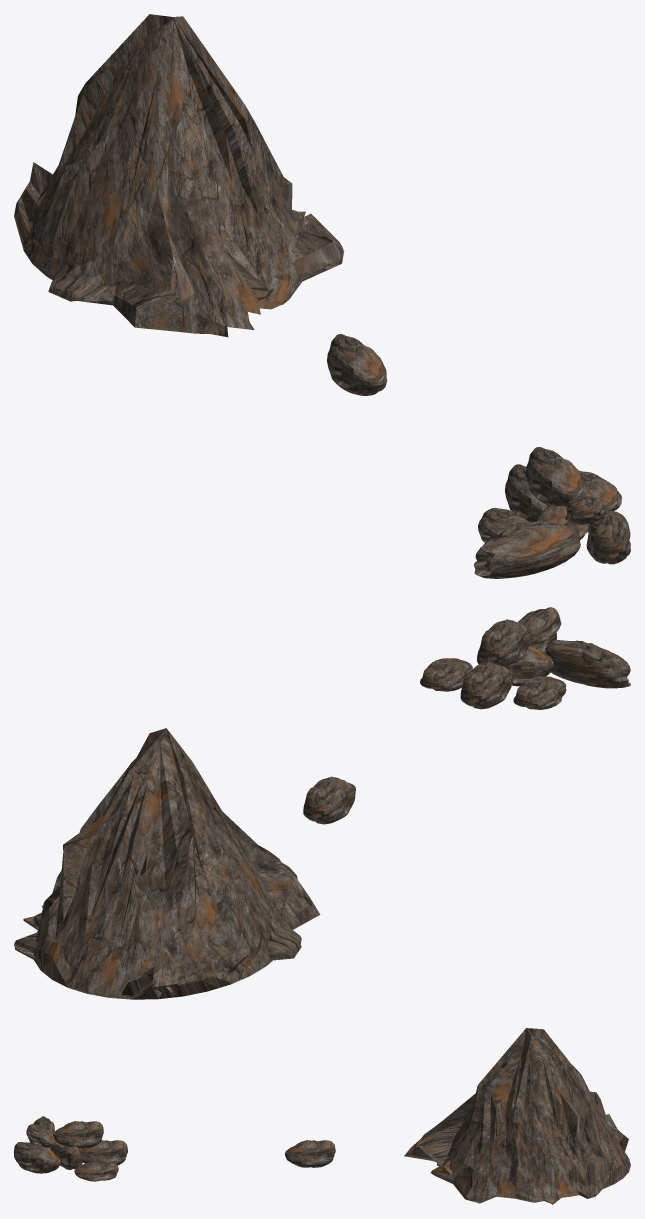
File: гематит(железо).fbx
The picture shows the model from 3 angles, top to bottom: view 1: azimuth 30°, elevation 25°; view 2: azimuth 150°, elevation 25°; view 3: azimuth 270°, elevation 25°; orthographic projection. The views are drawn at different scales.
Parts seen in each view (by area): view 1: Cone, Sphere.008, Sphere.005, Sphere.004, Sphere.003, Sphere, Sphere.007, Sphere.006, Sphere.001; view 2: Cone, Sphere.008, Sphere.005, Sphere, Sphere.004, Sphere.007, Sphere.001, Sphere.002, Sphere.006; view 3: Cone, Sphere.005, Sphere.004, Sphere.003, Sphere, Sphere.001, Sphere.002, Sphere.006.
Boxes of the visible parts, <box> form: Cone: <box>14,14,344,337</box>; Sphere.008: <box>474,521,580,578</box>; Sphere.005: <box>327,334,387,395</box>; Sphere.004: <box>525,447,585,506</box>; Sphere.003: <box>586,510,630,564</box>; Sphere: <box>505,464,547,522</box>; Sphere.007: <box>478,507,529,542</box>; Sphere.006: <box>565,495,605,524</box>; Sphere.001: <box>579,470,621,510</box>; Cone: <box>14,728,320,999</box>; Sphere.008: <box>545,640,630,688</box>; Sphere.005: <box>303,776,355,824</box>; Sphere: <box>460,661,513,709</box>; Sphere.004: <box>479,619,531,666</box>; Sphere.007: <box>513,676,566,709</box>; Sphere.001: <box>420,658,472,691</box>; Sphere.002: <box>477,646,553,686</box>; Sphere.006: <box>517,607,561,644</box>; Cone: <box>404,1028,630,1204</box>; Sphere.005: <box>285,1140,335,1167</box>; Sphere.004: <box>53,1121,103,1148</box>; Sphere.003: <box>14,1142,60,1173</box>; Sphere: <box>81,1140,127,1165</box>; Sphere.001: <box>74,1161,118,1181</box>; Sphere.002: <box>50,1143,84,1169</box>; Sphere.006: <box>26,1124,57,1147</box>.
Bounding box in the file's own units: 664 × 552 × 2215.
1 material, 1 textured.
